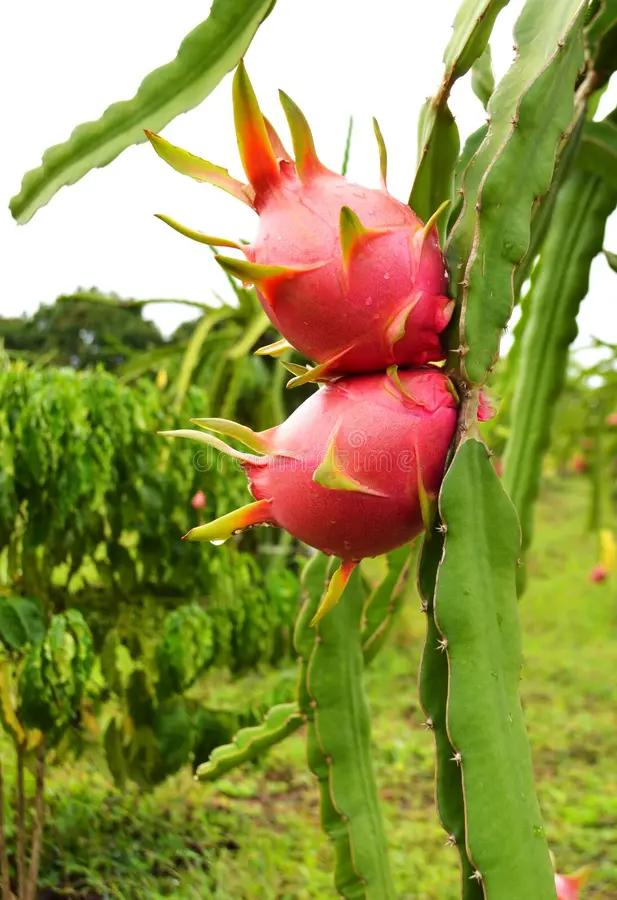dragon fruit: (137, 51, 481, 376), (146, 366, 466, 558)
